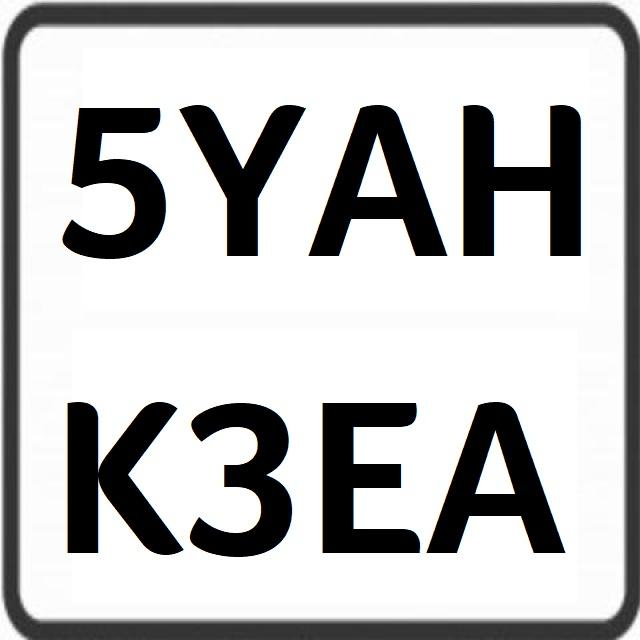3: (178, 378, 296, 567)
5: (54, 85, 172, 275)
A: (304, 74, 449, 288), (426, 372, 570, 584)
H: (456, 77, 604, 275)
K: (55, 377, 186, 572)
Y: (185, 78, 307, 276)
